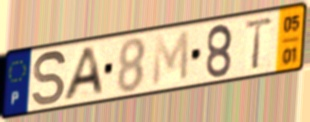8: (116, 35, 149, 95), (205, 22, 234, 80)
A: (61, 44, 107, 103)
M: (150, 28, 191, 90)
S: (31, 49, 68, 108)
T: (243, 15, 276, 73)
